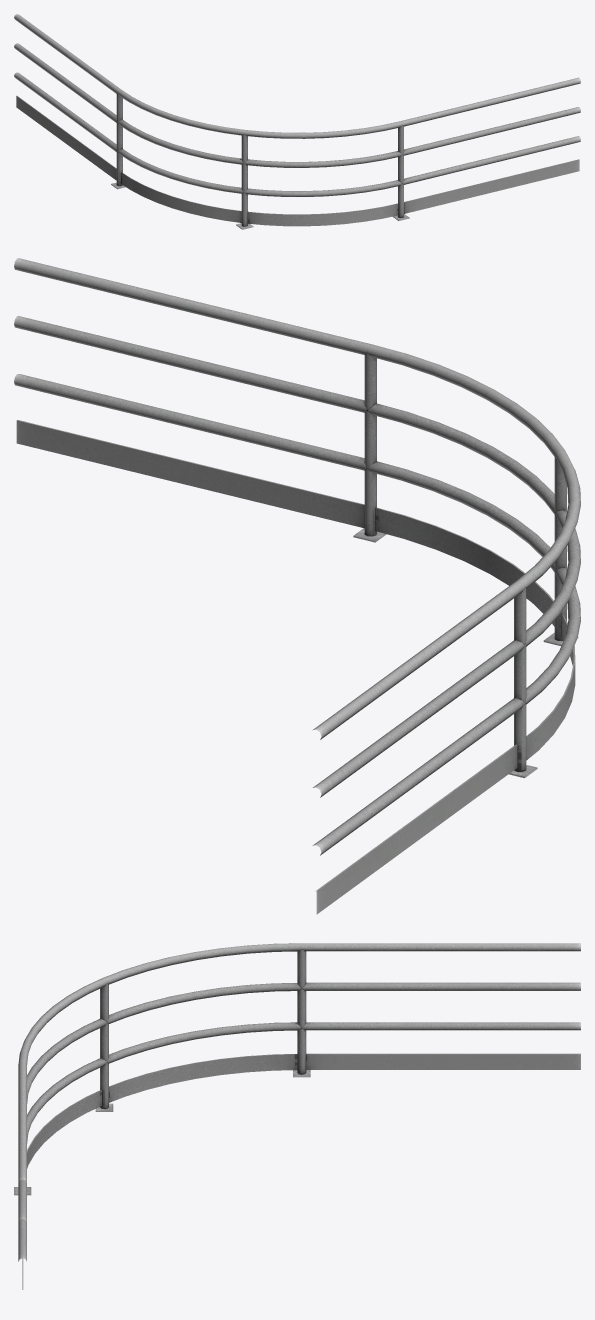
3 renders of one model, top to bottom at view 1: azimuth 30°, elevation 25°; view 2: azimuth 150°, elevation 25°; view 3: azimuth 270°, elevation 25°, orthographic. The views are drawn at different scales.
Visible parts, largest first — view 1: body0_model0_lod0_mesh0; view 2: body0_model0_lod0_mesh0; view 3: body0_model0_lod0_mesh0.
Boxes of the visible parts, box(x1,y1,x2,y2) form: body0_model0_lod0_mesh0: box(14, 14, 580, 229); body0_model0_lod0_mesh0: box(14, 258, 580, 914); body0_model0_lod0_mesh0: box(14, 943, 580, 1289).
Size of the model in its own units: 130 by 33 by 130.
Materials: 1 (1 with a texture image).
